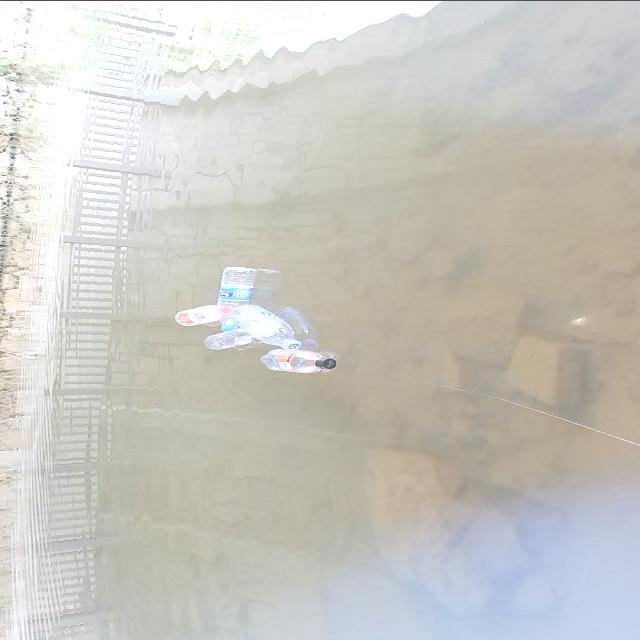bottle: (223, 294, 309, 356), (210, 252, 266, 334), (170, 289, 230, 336), (261, 343, 340, 378), (204, 324, 250, 360)
